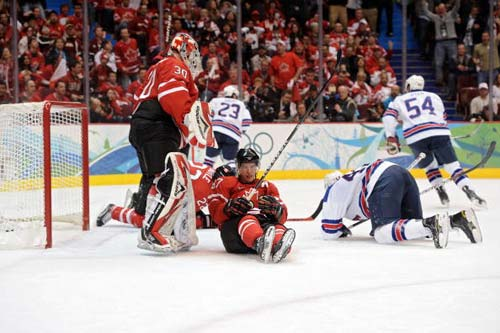10+: (1, 1, 500, 280)
down: (305, 159, 484, 245), (217, 142, 298, 268), (99, 156, 228, 234)
